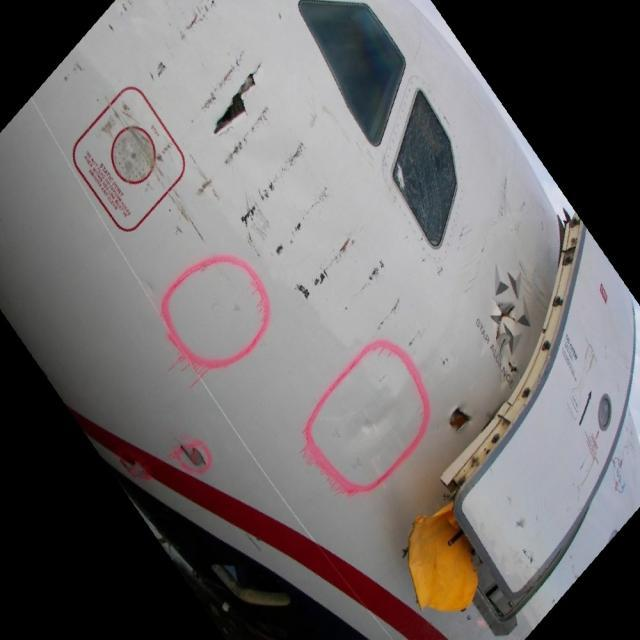crack: (211, 60, 264, 137), (449, 403, 482, 436)
dent: (352, 391, 401, 444)
